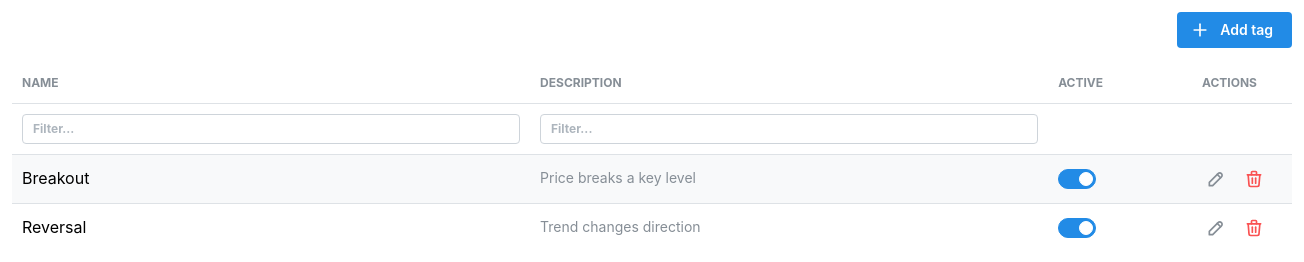
Test: TagsTab › column filters › filters by name (case-insensitive substring)
Expected: the text "Breakout" is shown, [22,168,89,188]
Type "rever" into the field named "Name" at (271, 129), box [22,114,520,144]
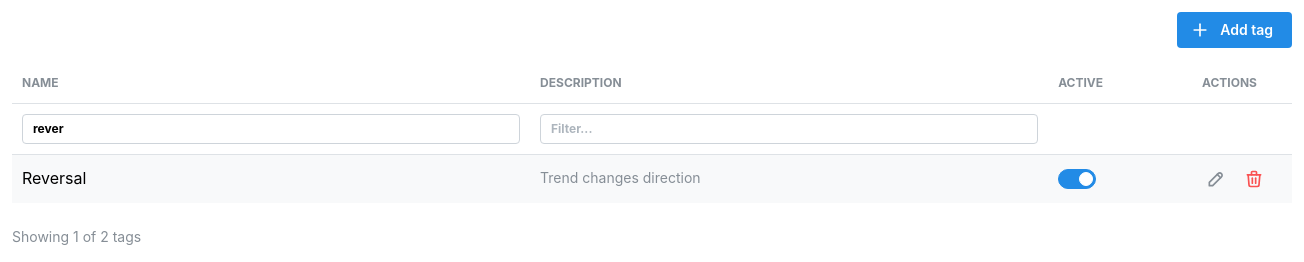
Expected: the text "Reversal" is shown, [22,168,86,188]
Now the text "Breakout" is gone
Now the text "Showing 1 of 2 tags" is shown, box [12,228,141,245]
